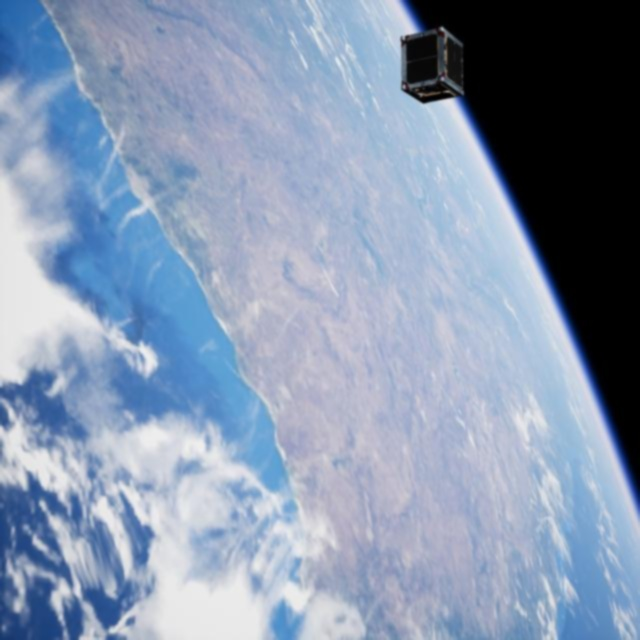satellite: (396, 31, 473, 107)
